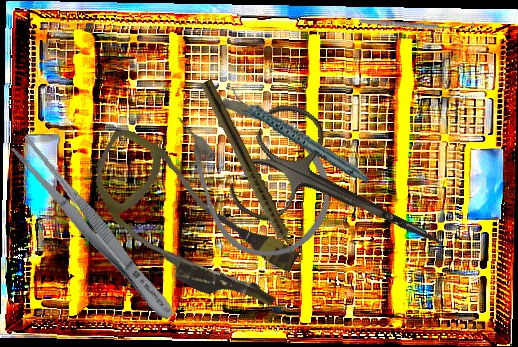Cannula: (67, 124, 313, 325), (151, 64, 355, 279)
Dressing Forceps: (7, 132, 182, 327)
Handpiece: (227, 62, 371, 209), (196, 78, 302, 263)
Hook Surgical: (357, 13, 476, 34)
Iris Scissors: (223, 95, 468, 299)
